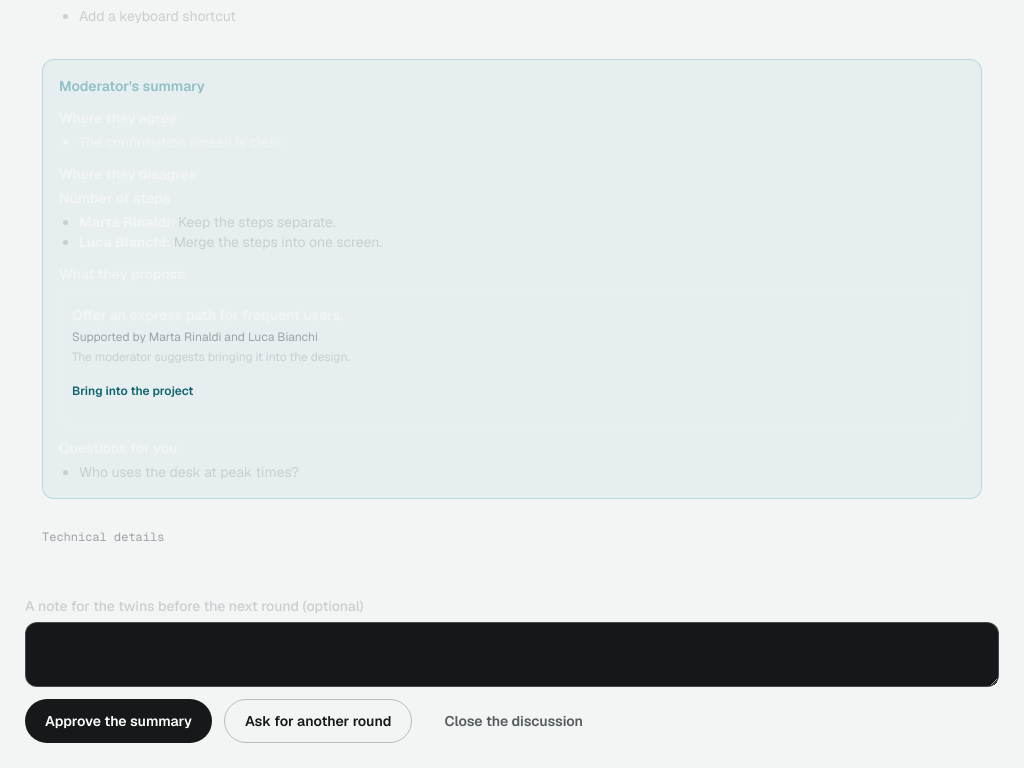
Test: ProjectDesignDiscussionPanel › reloads the discussion when it changed in the meantime
(page scrolled)
Click the button with test id "discussion-next-round" at (318, 721), box top-left (224, 699), bottom-right (412, 743)
(page scrolled)
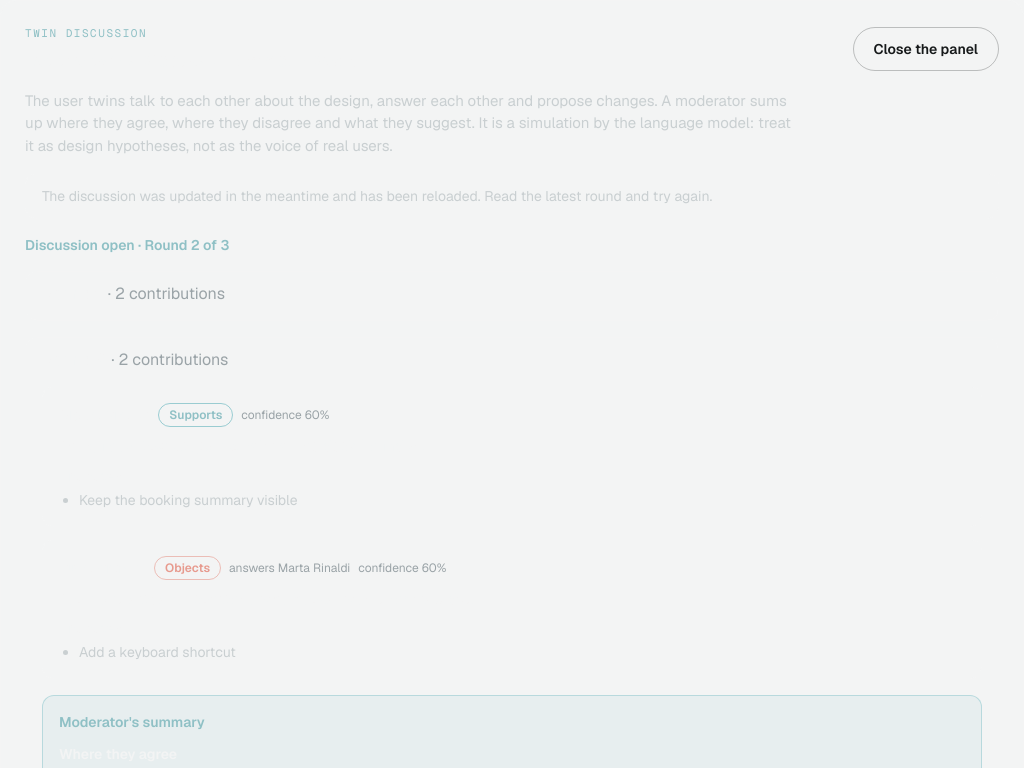
Result: the message with test id "discussion-notice" shows "has been reloaded" at top-left (42, 187), bottom-right (712, 205)
